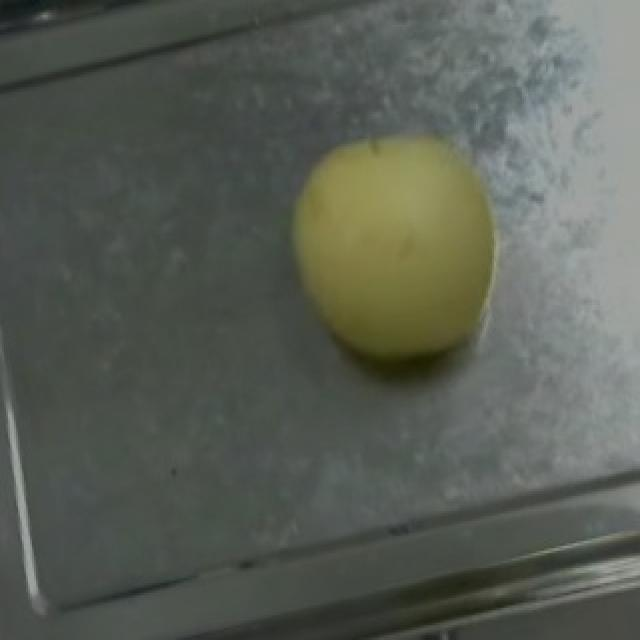Fruit: (252, 92, 536, 402)
